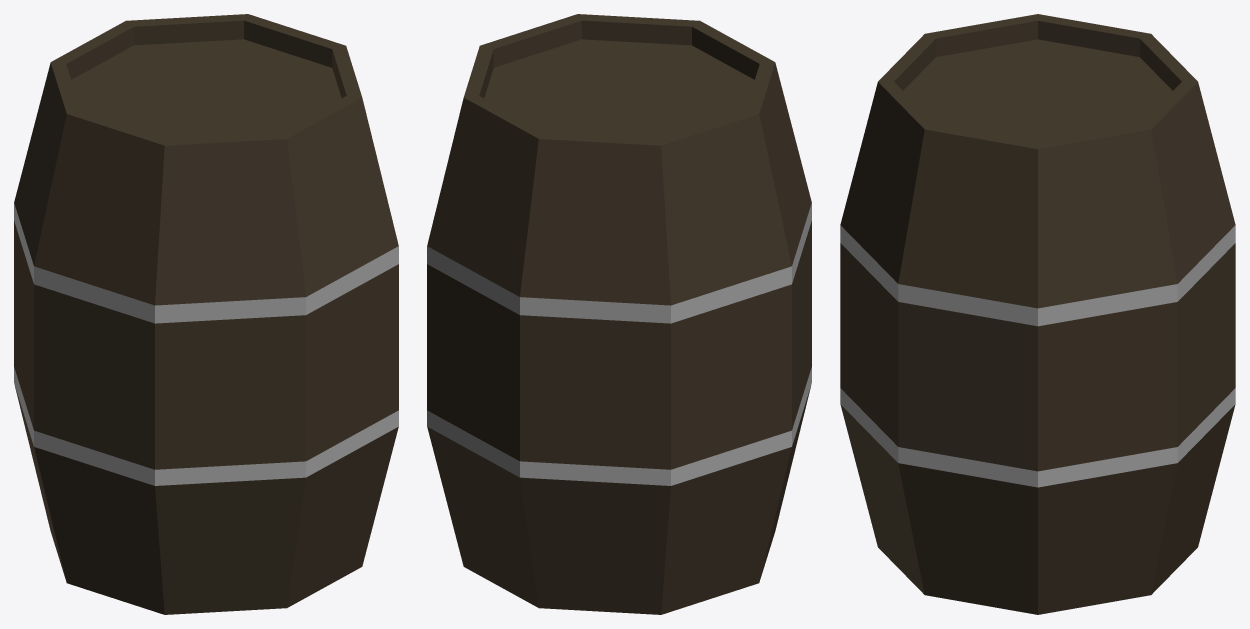
File: roman_barrel.fbx
3 renders of one model, left to right at view 1: azimuth 30°, elevation 25°; view 2: azimuth 150°, elevation 25°; view 3: azimuth 270°, elevation 25°, orthographic.
Visible parts, largest first — view 1: Cylinder.010; view 2: Cylinder.010; view 3: Cylinder.010.
Boxes of the visible parts, x1,y1,x2,y2 form: Cylinder.010: (14,14,398,614); Cylinder.010: (427,14,811,614); Cylinder.010: (840,14,1235,614).
Bounding box in the file's own units: 1.07 × 1.39 × 1.07.
